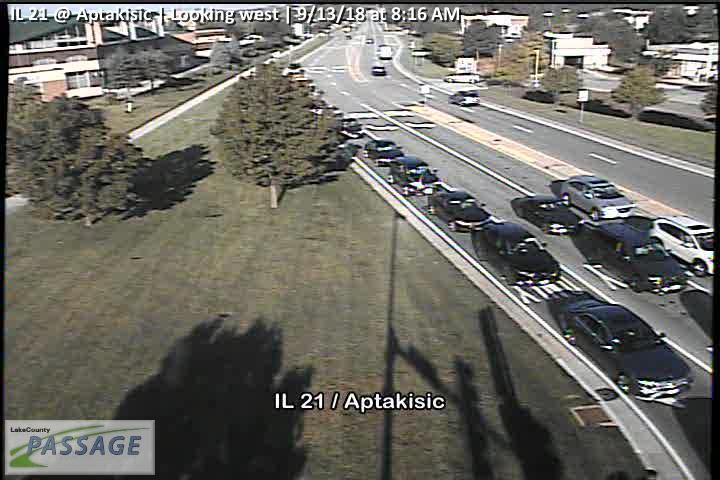SUV: (649, 212, 714, 276)
Sedan: (552, 294, 693, 400), (590, 222, 686, 292), (477, 221, 562, 284), (558, 174, 637, 219), (513, 192, 578, 235), (429, 188, 491, 231), (390, 157, 438, 195), (361, 139, 400, 164), (448, 90, 479, 105), (371, 65, 386, 76)
Truck: (379, 45, 393, 59)
